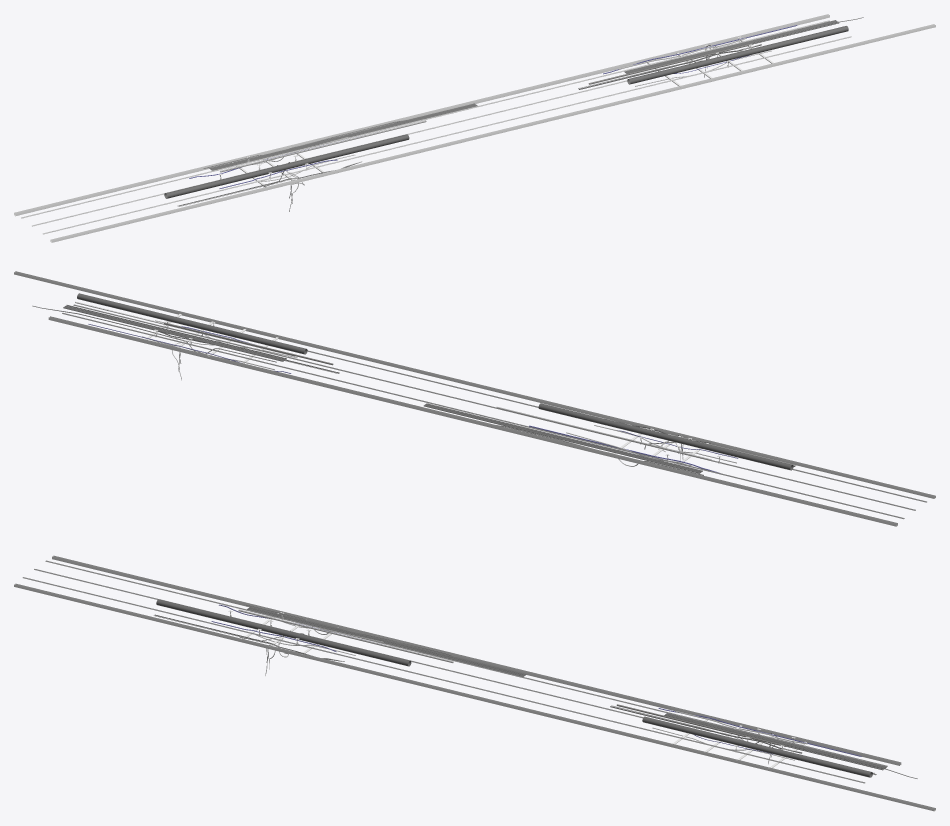
The picture shows the model from 3 angles, top to bottom: view 1: azimuth 30°, elevation 25°; view 2: azimuth 150°, elevation 25°; view 3: azimuth 330°, elevation 25°; orthographic projection. The views are drawn at different scales.
Parts seen in each view (by area): view 1: SM_H_Building_FutureTech_HStairs_04_InterWall_01E_Line; view 2: SM_H_Building_FutureTech_HStairs_04_InterWall_01E_Line; view 3: SM_H_Building_FutureTech_HStairs_04_InterWall_01E_Line.
Part boxes in pixels (box(x1,y1,x2,y2)): SM_H_Building_FutureTech_HStairs_04_InterWall_01E_Line: box(14, 14, 935, 242); SM_H_Building_FutureTech_HStairs_04_InterWall_01E_Line: box(14, 271, 935, 526); SM_H_Building_FutureTech_HStairs_04_InterWall_01E_Line: box(14, 555, 935, 811).
Size of the model in its own units: 102 by 1383 by 57.88.
